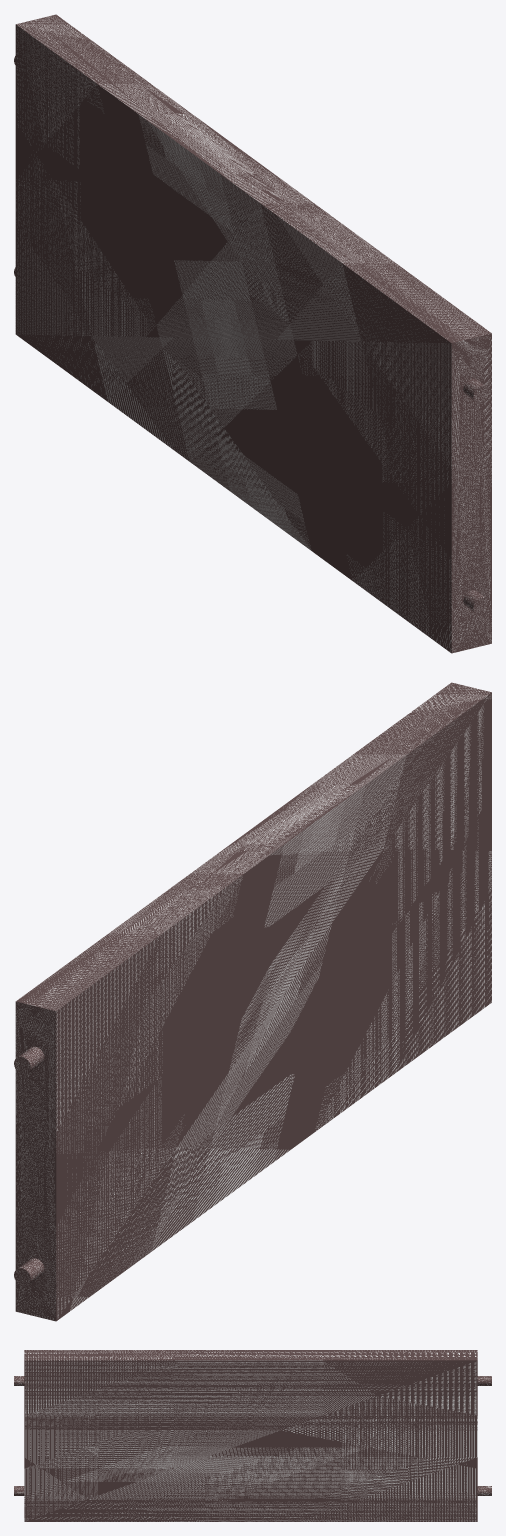
The model's file is original-25.obj.
The picture shows the model from 3 angles, top to bottom: view 1: azimuth 30°, elevation 25°; view 2: azimuth 150°, elevation 25°; view 3: azimuth 270°, elevation 25°; orthographic projection. The views are drawn at different scales.
Visible parts, largest first — view 1: Component_6_1/Component_6/mesh15/mesh15-geometry#mesh15-geometry; view 2: Component_6_1/Component_6/mesh15/mesh15-geometry#mesh15-geometry; view 3: Component_6_1/Component_6/mesh15/mesh15-geometry#mesh15-geometry.
Boxes of the visible parts, x1=… form: Component_6_1/Component_6/mesh15/mesh15-geometry#mesh15-geometry: x1=14, y1=14, x2=491, y2=653; Component_6_1/Component_6/mesh15/mesh15-geometry#mesh15-geometry: x1=14, y1=682, x2=491, y2=1321; Component_6_1/Component_6/mesh15/mesh15-geometry#mesh15-geometry: x1=14, y1=1350, x2=491, y2=1521.
Bounding box in the file's own units: 0.0131 × 0.0964 × 0.2587.
